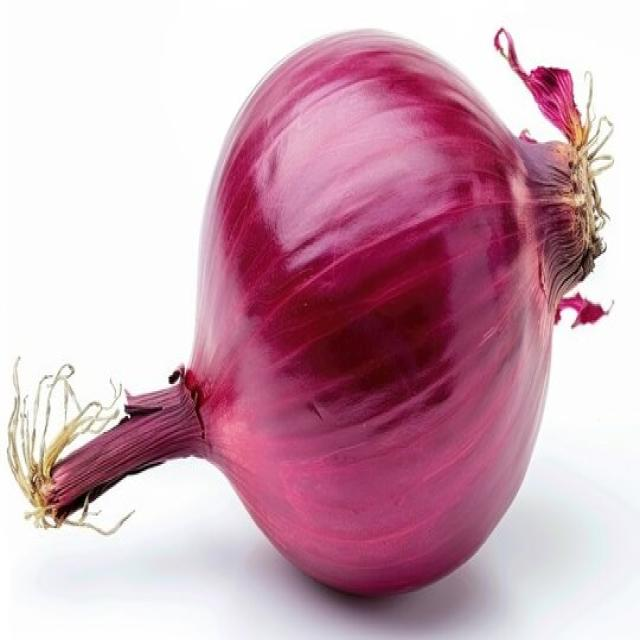Onion: (8, 25, 614, 597)
